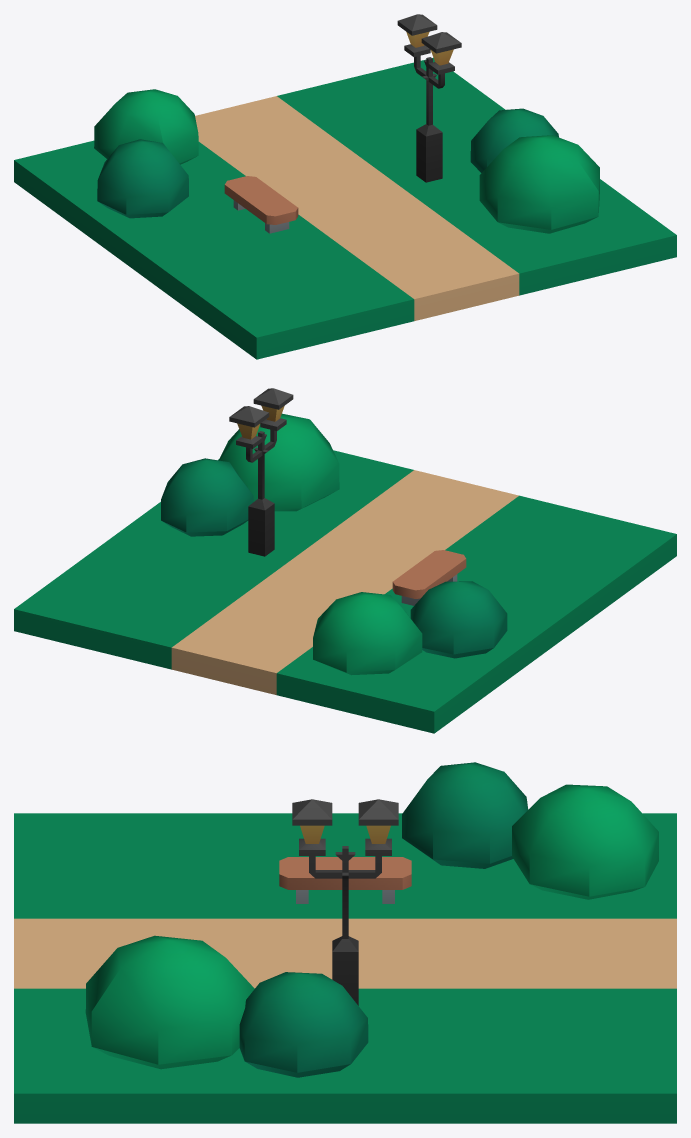
The model's file is park_road_straight_decorated_B.glb.
3 views of the same model, one above another, from view 1: azimuth 30°, elevation 25°; view 2: azimuth 150°, elevation 25°; view 3: azimuth 270°, elevation 25° (orthographic). The views are drawn at different scales.
Parts seen in each view (by area): view 1: park_road_straight_decorated_B; view 2: park_road_straight_decorated_B; view 3: park_road_straight_decorated_B.
Part boxes in pixels (x1,y1,x2,y2): park_road_straight_decorated_B: [14, 14, 676, 359]; park_road_straight_decorated_B: [14, 388, 676, 733]; park_road_straight_decorated_B: [14, 762, 676, 1123].
Bounding box in the file's own units: 2 × 0.8 × 2.
1 material, 1 textured.
